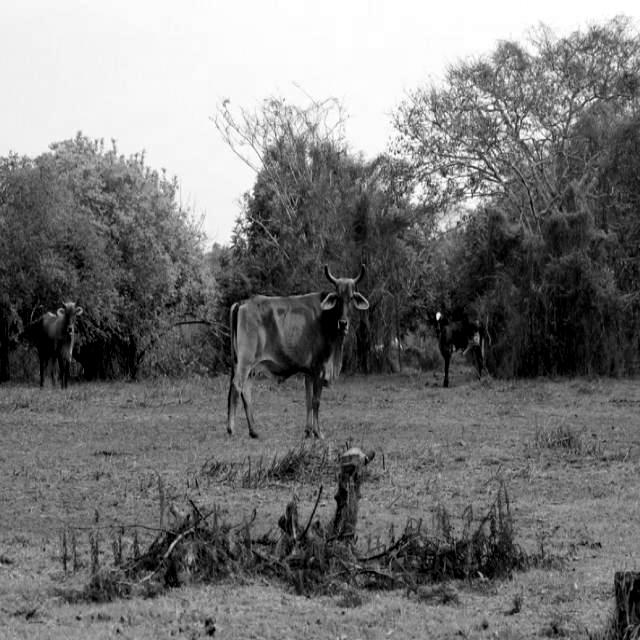COW: (228, 266, 369, 438)
